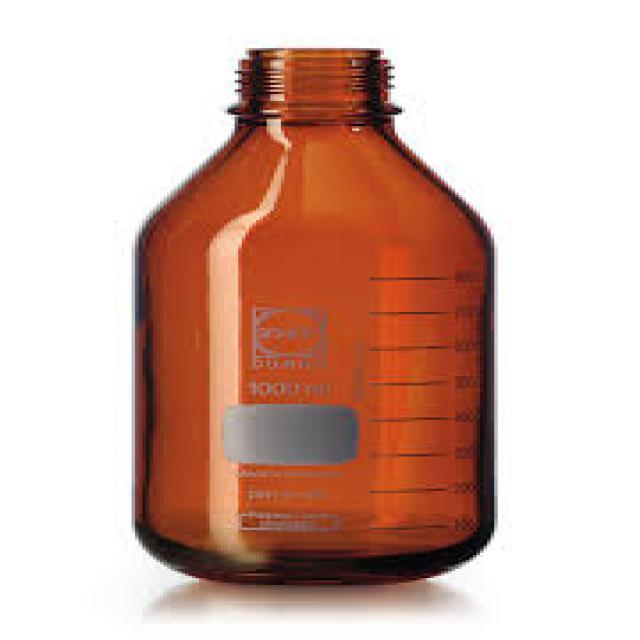Glass: (136, 48, 500, 583)
